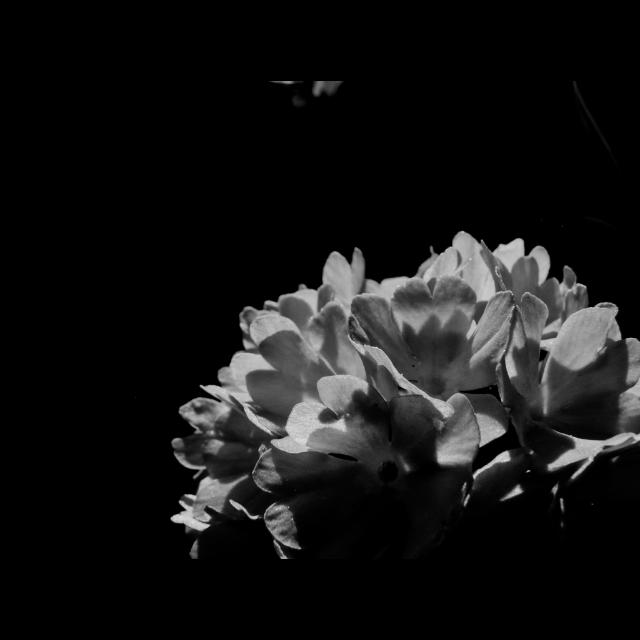Flower: (182, 225, 580, 539)
